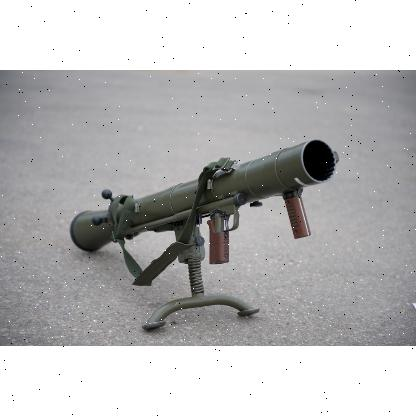gun: (69, 138, 338, 328)
